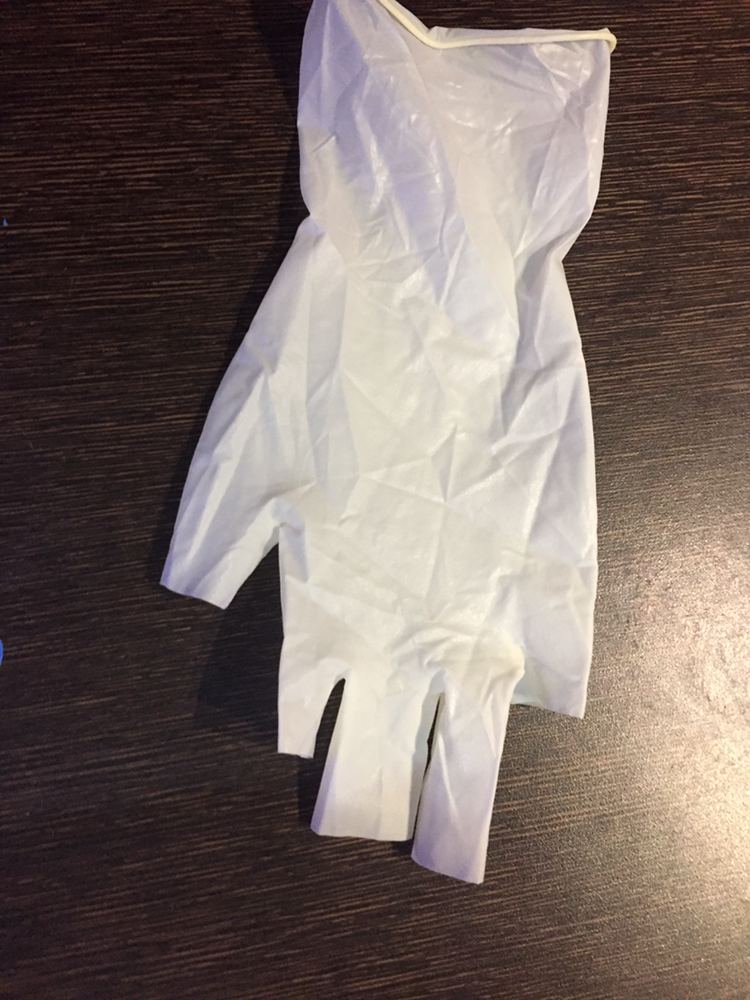defected: (120, 63, 692, 924)
